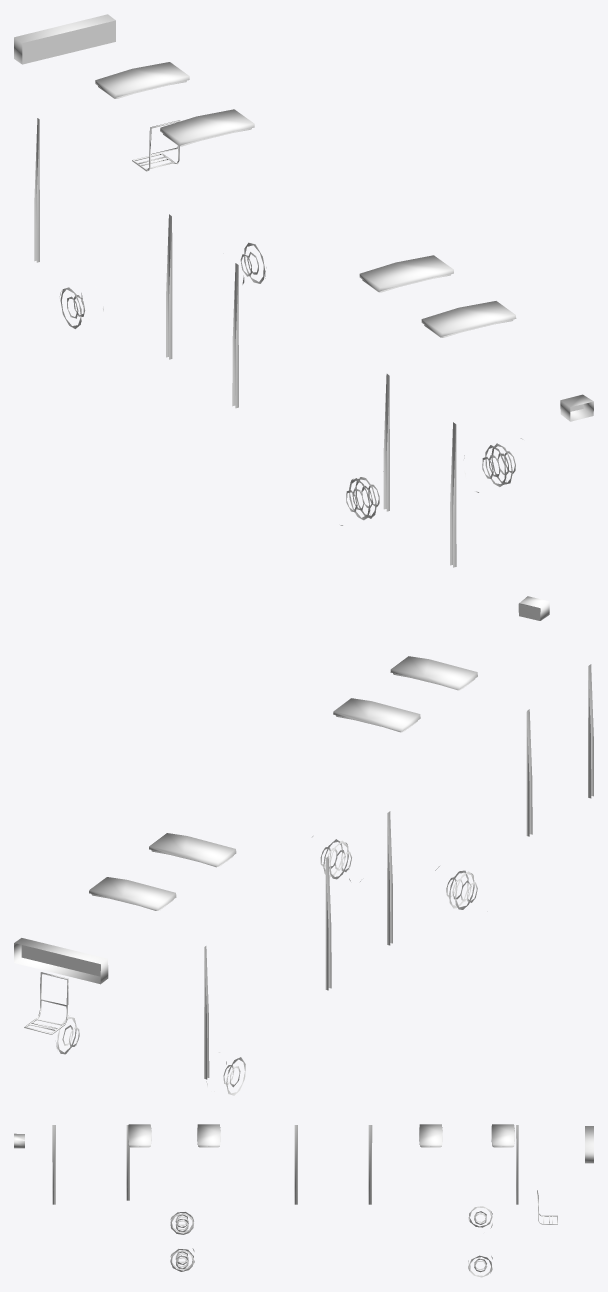
3 renders of one model, top to bottom at view 1: azimuth 30°, elevation 25°; view 2: azimuth 150°, elevation 25°; view 3: azimuth 270°, elevation 25°, orthographic. The views are drawn at different scales.
Bounding box in the file's own units: 2.3 × 2.52 × 11.11.
1 material, 1 textured.
